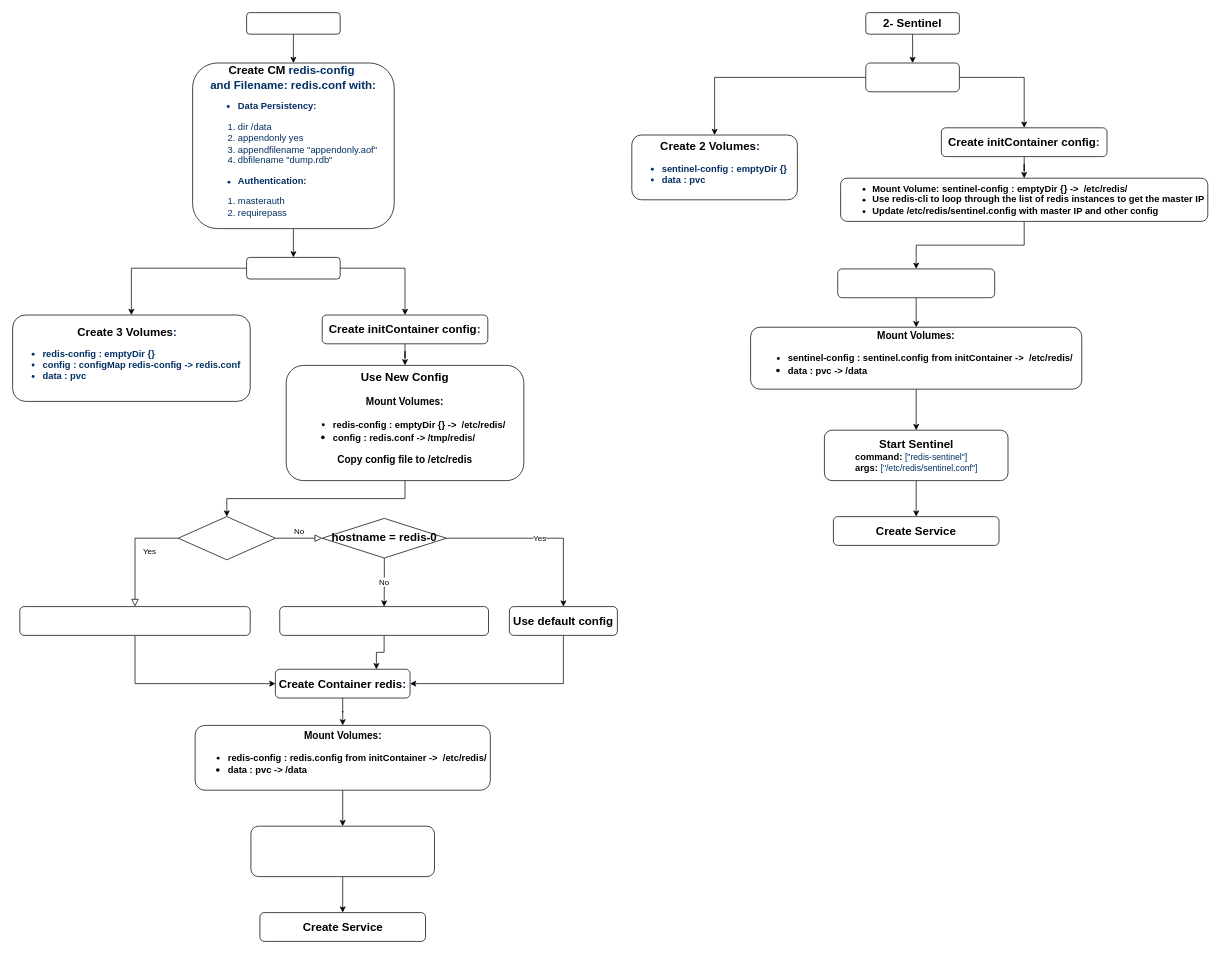
Image size: 1220x954. Some labels were removed from this diagram. The shapes that lost their labels are listed below. From the top down, each one's box as (x1, y1, x2, y2) in pixels, then its label:
(246, 12, 340, 34): 1- Redis
(865, 62, 959, 92): Create SS sentinel
(246, 257, 340, 279): Create SS redis
(837, 268, 995, 298): Create Container sentinel :
(177, 516, 275, 560): Sentinel Up
(19, 606, 250, 635): Get Master IP Update config with replicaof Master
(279, 606, 489, 635): Update config with replicaof redis-0
(250, 825, 435, 877): Start Sentinel command : ["redis-server"] args : [" /etc/redis/sentinel.conf "]
